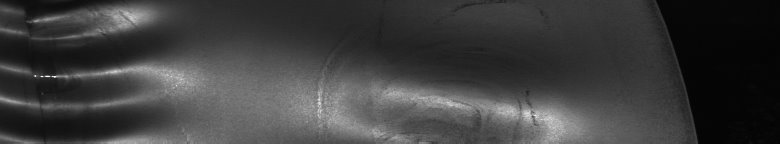ke: (104, 4, 180, 136)
